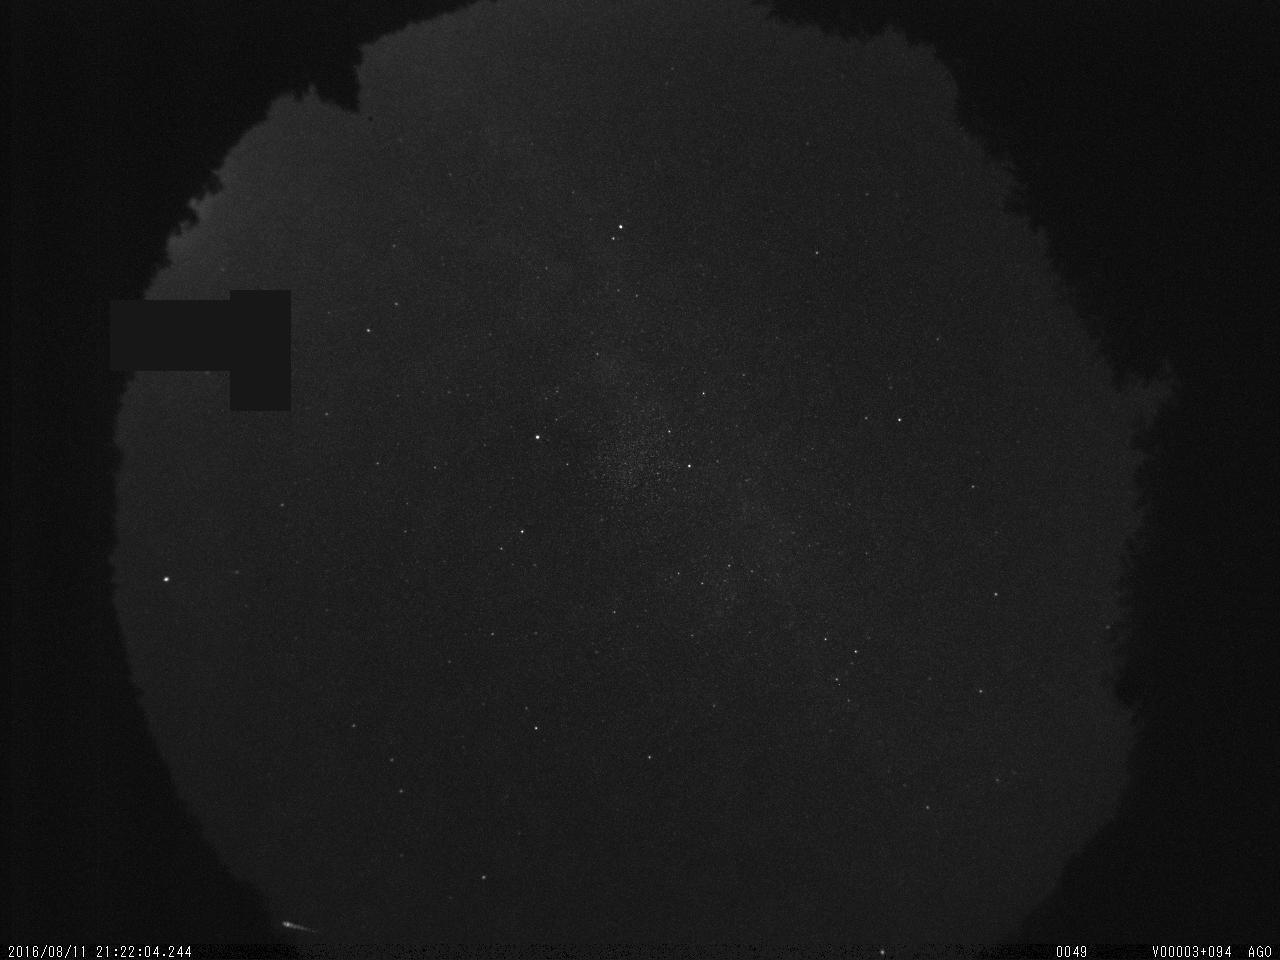Meteor: (277, 910, 323, 945)
